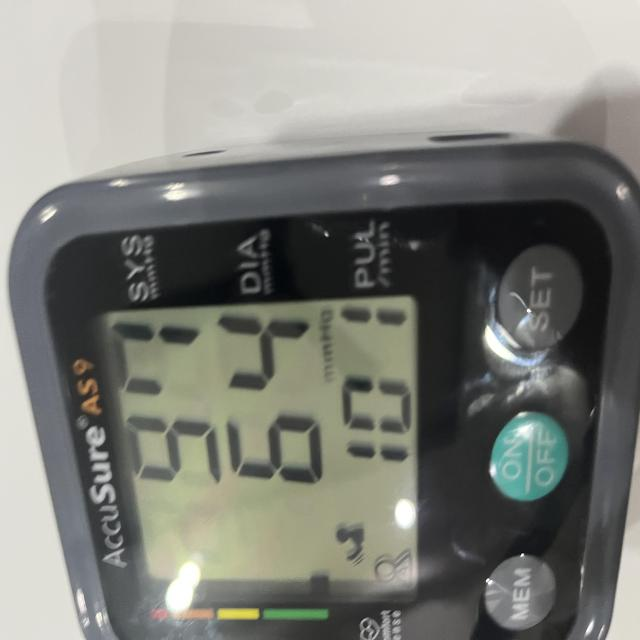bp: (7, 72, 640, 640)
